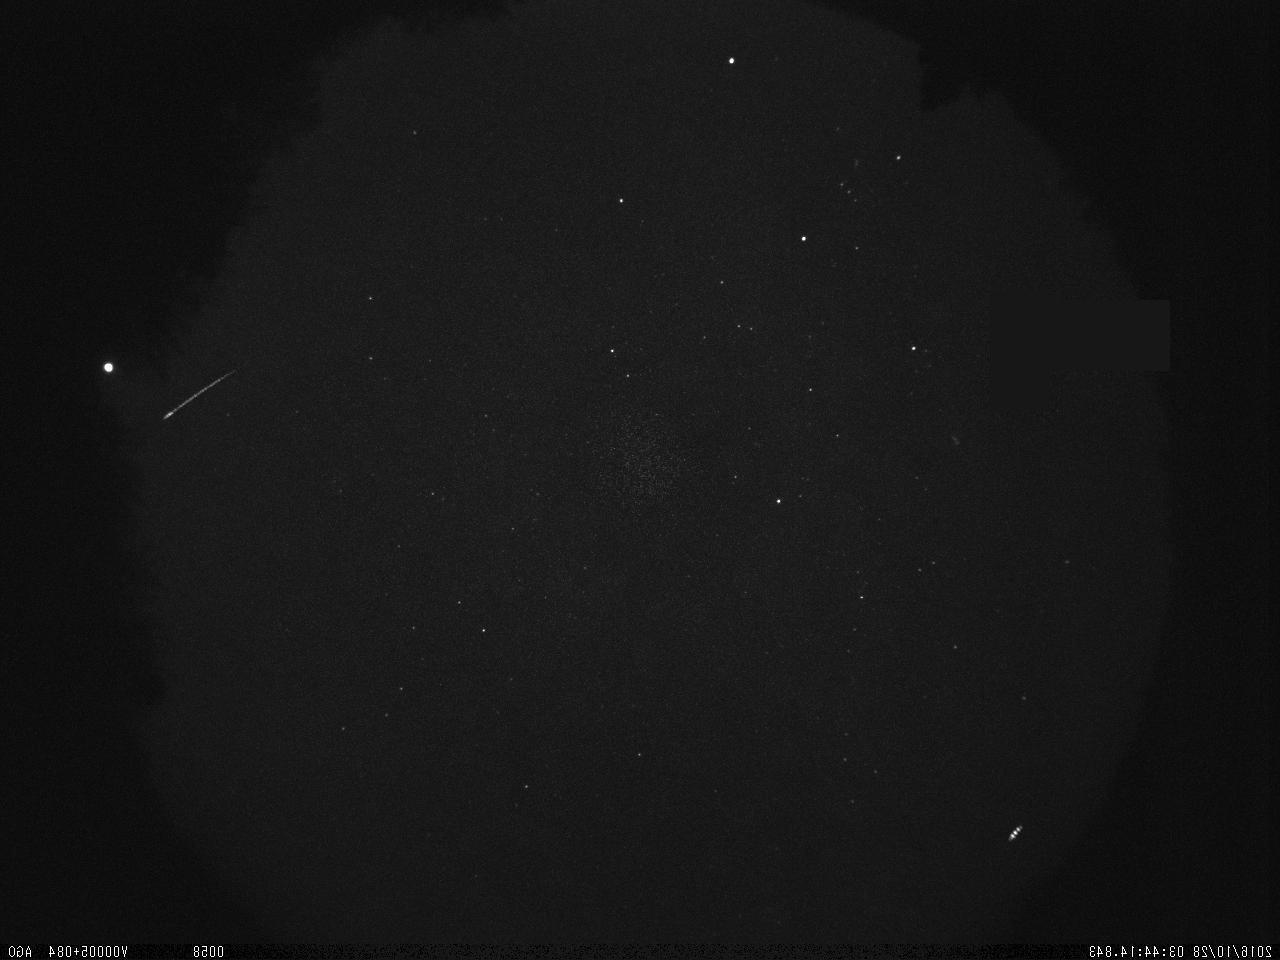meteor: (156, 359, 249, 430)
satelite: (1003, 820, 1027, 851)
